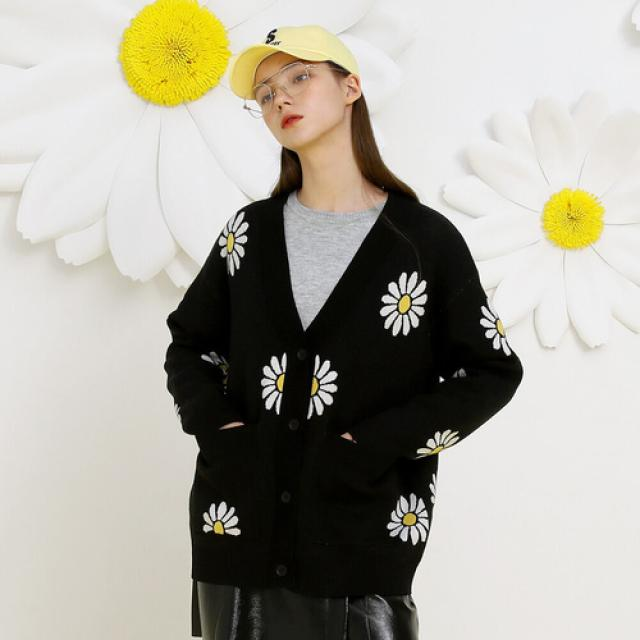Blouse_deep: (163, 175, 514, 586)
